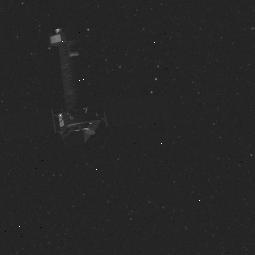xmm_newton: (49, 19, 114, 147)
